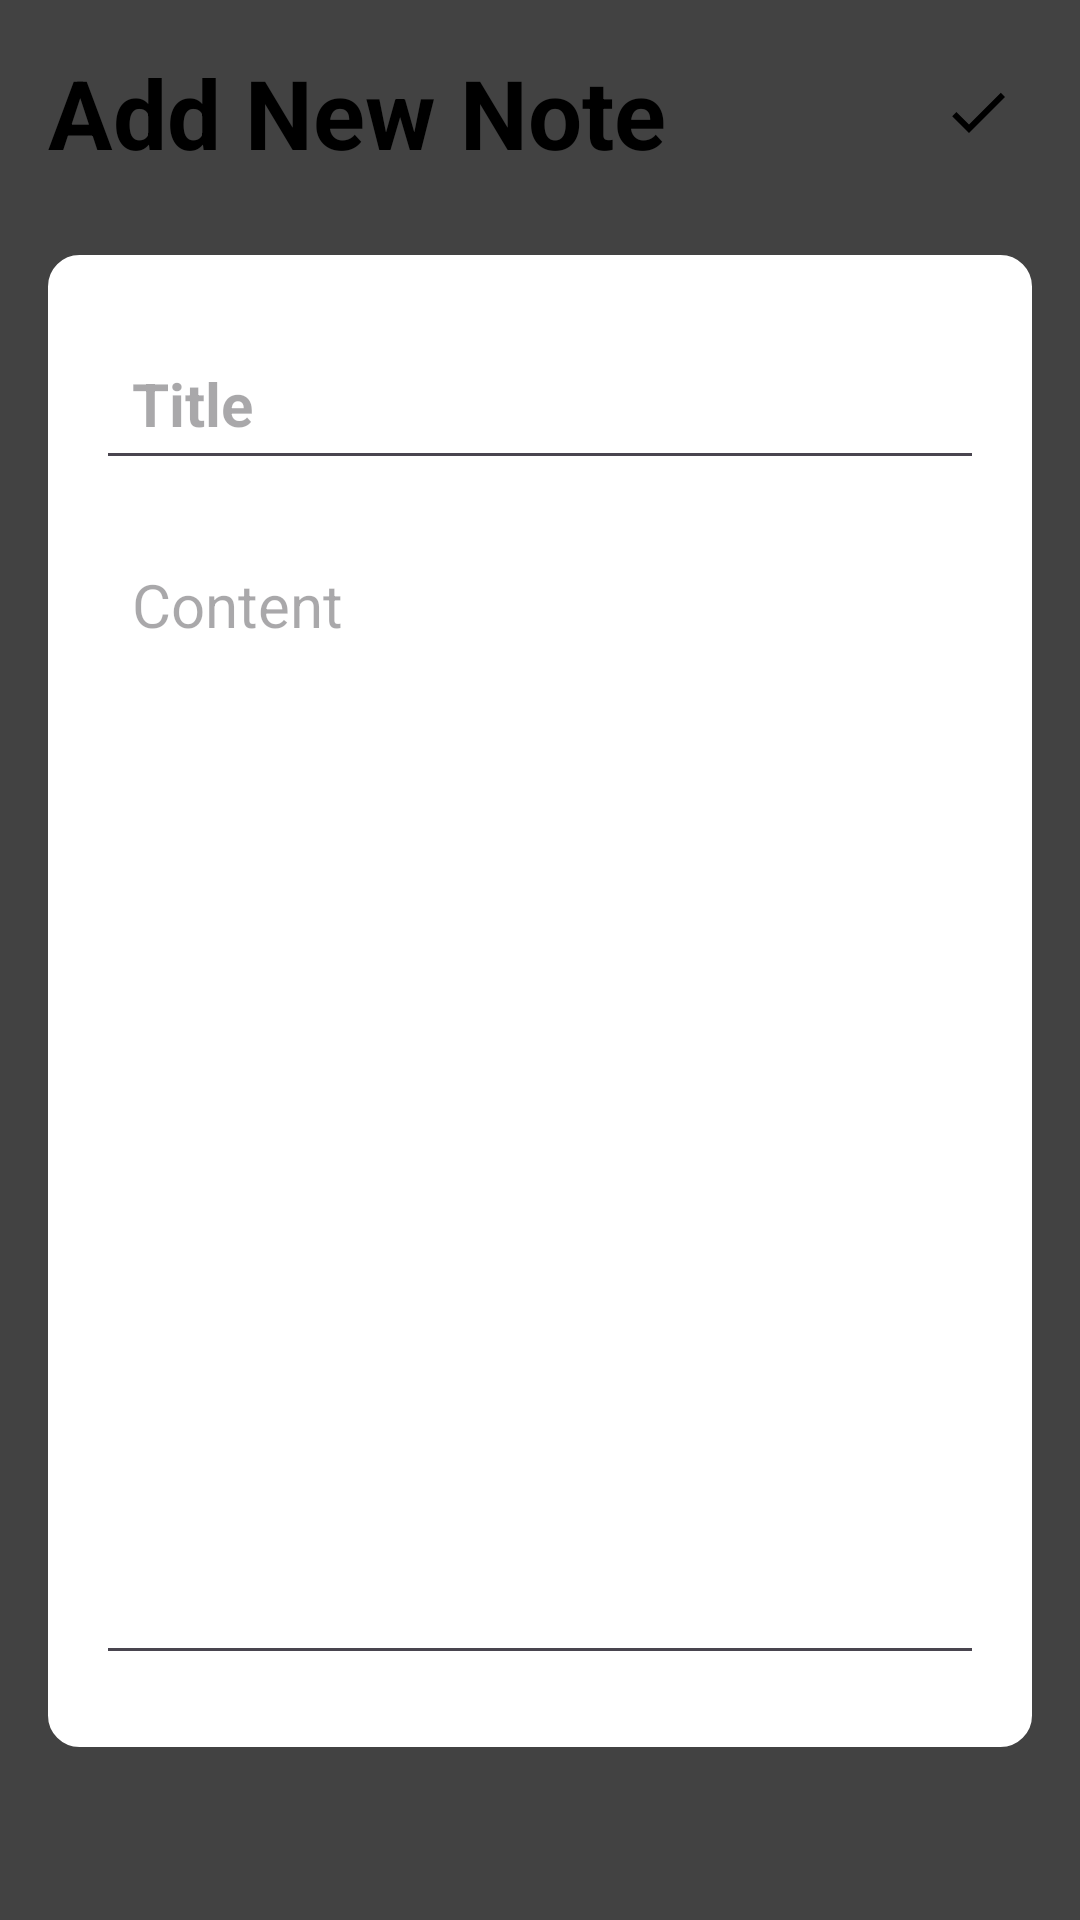

Screen size 1080w x 1920h. Icon name, then its box in pixels as (x1, y1, x2, y2):
done: (952, 93, 1005, 133)
